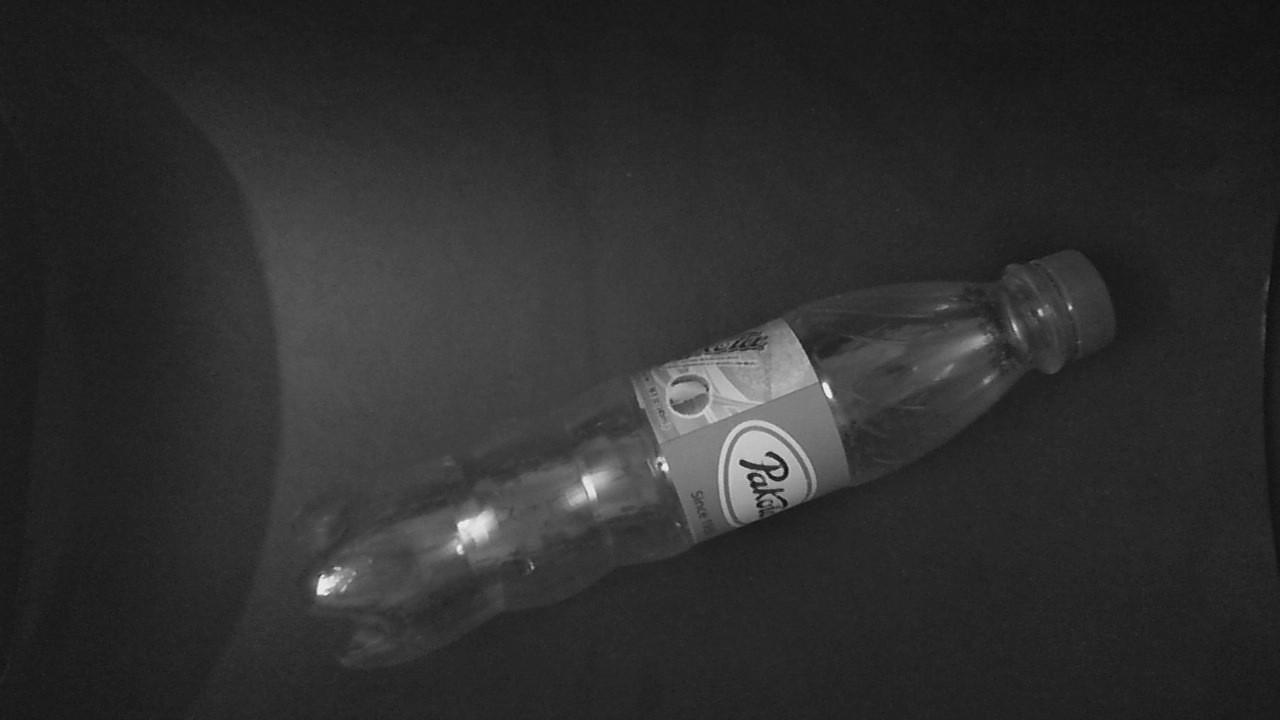bottle: (266, 232, 1136, 688)
